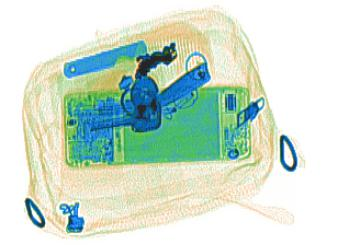knife: (62, 39, 148, 79)
